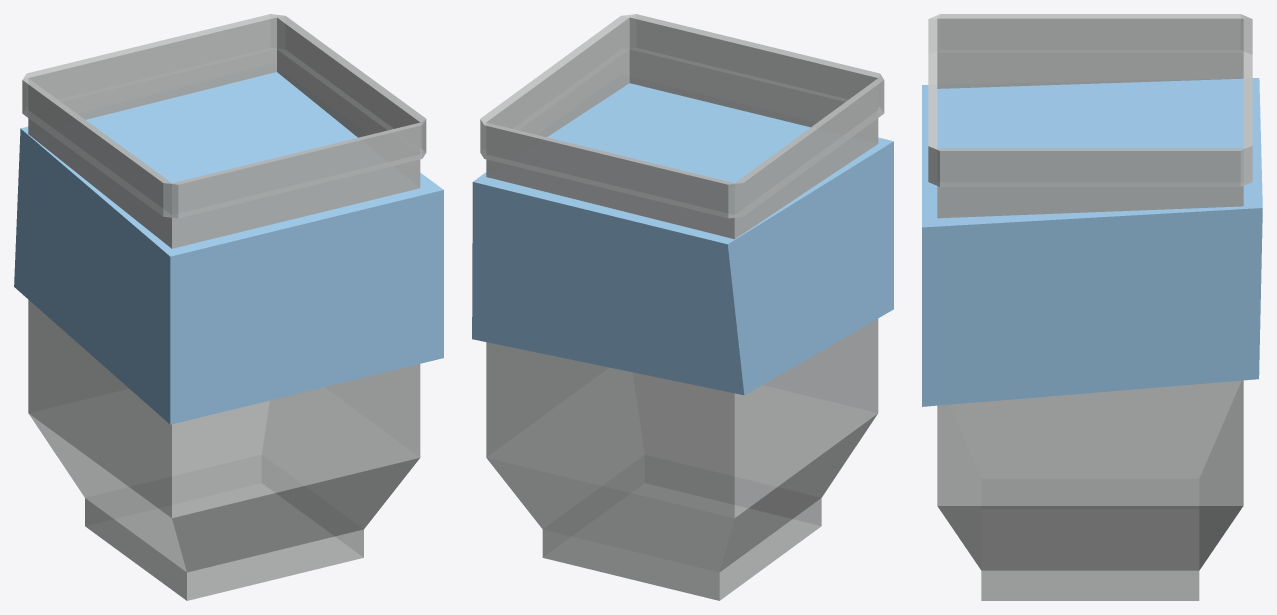
The model's file is MilkGlass.fbx.
3 renders of one model, left to right at view 1: azimuth 30°, elevation 25°; view 2: azimuth 150°, elevation 25°; view 3: azimuth 270°, elevation 25°, orthographic. The views are drawn at different scales.
Parts seen in each view (by area): view 1: Cube.002; view 2: Cube.002; view 3: Cube.002.
Boxes of the visible parts, bbox=[...] form: Cube.002: bbox=[14, 14, 443, 600]; Cube.002: bbox=[472, 14, 893, 600]; Cube.002: bbox=[922, 14, 1262, 600].
Bounding box in the file's own units: 0.1394 × 0.213 × 0.1392.
